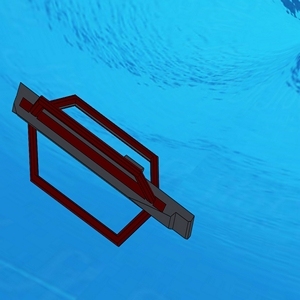submarine: (13, 82, 190, 246)
